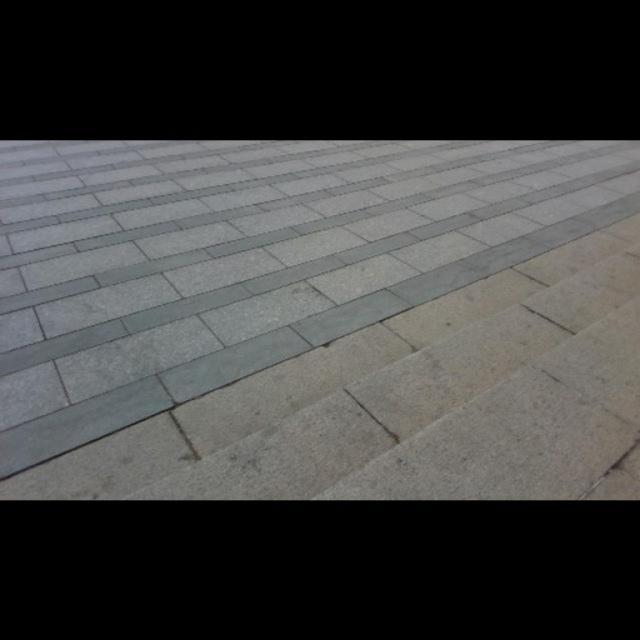stair: (206, 236, 632, 487)
